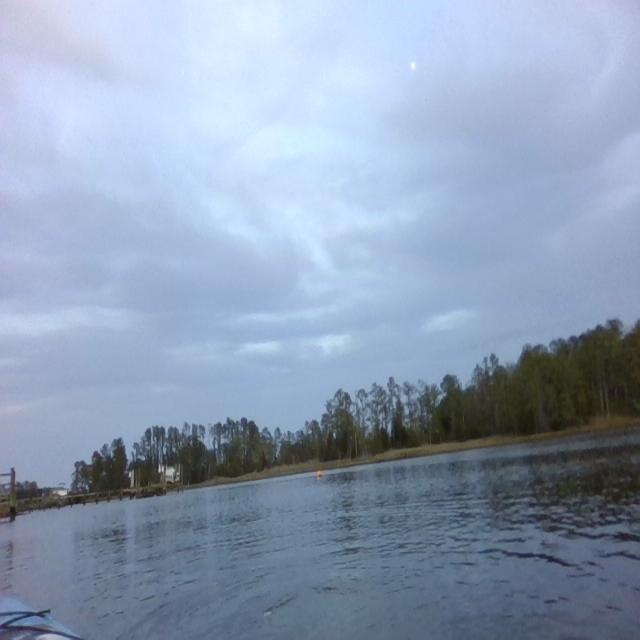Buoy: (315, 468, 323, 479)
